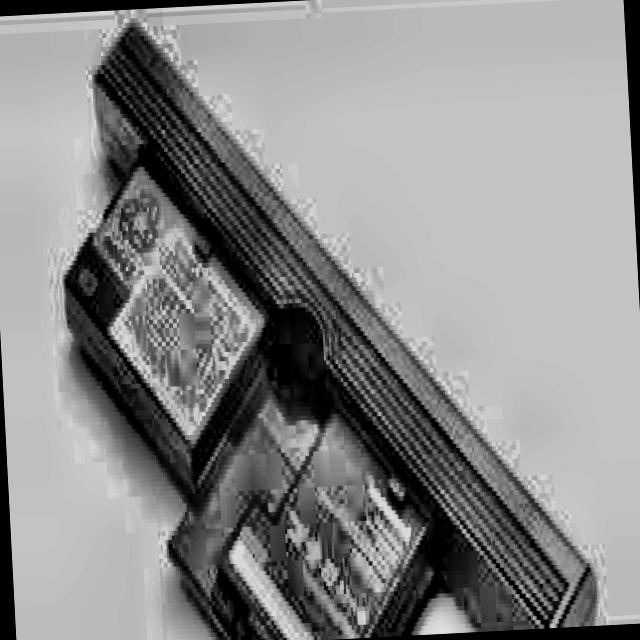Battery: (52, 0, 597, 640)
